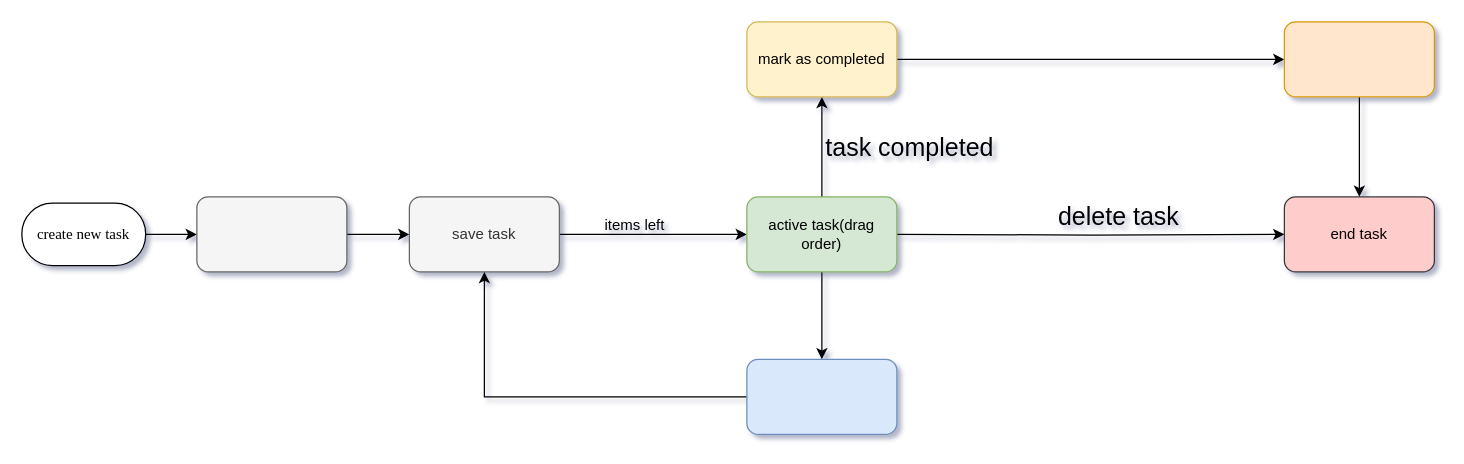
Image size: 1464x464. Some labels were removed from this diagram. The shapes that lost their labels are listed below. From the top down, each one's box as (x1, y1, x2, y2) in pixels, then its label:
(1283, 21, 1434, 97): clear completed
(196, 196, 347, 272): render task
(746, 358, 897, 434): edit task content
